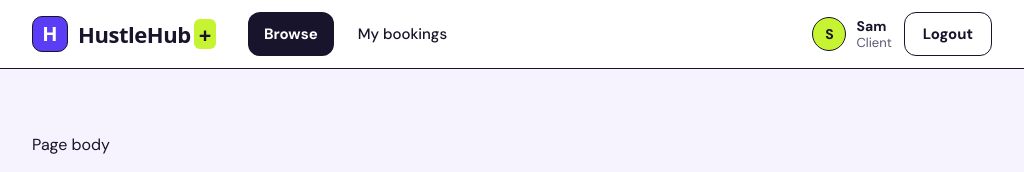
Scenario: Layout › logs out and returns to the login page when Logout is clicked
Step 1. Click the button "Logout" → (948, 34), box [904, 12, 992, 56]
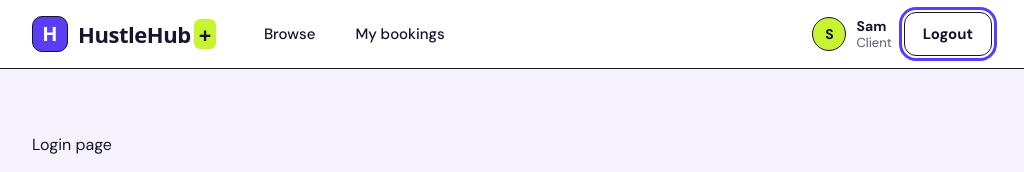
Now the text "Login page" is shown, box [32, 134, 112, 155]
